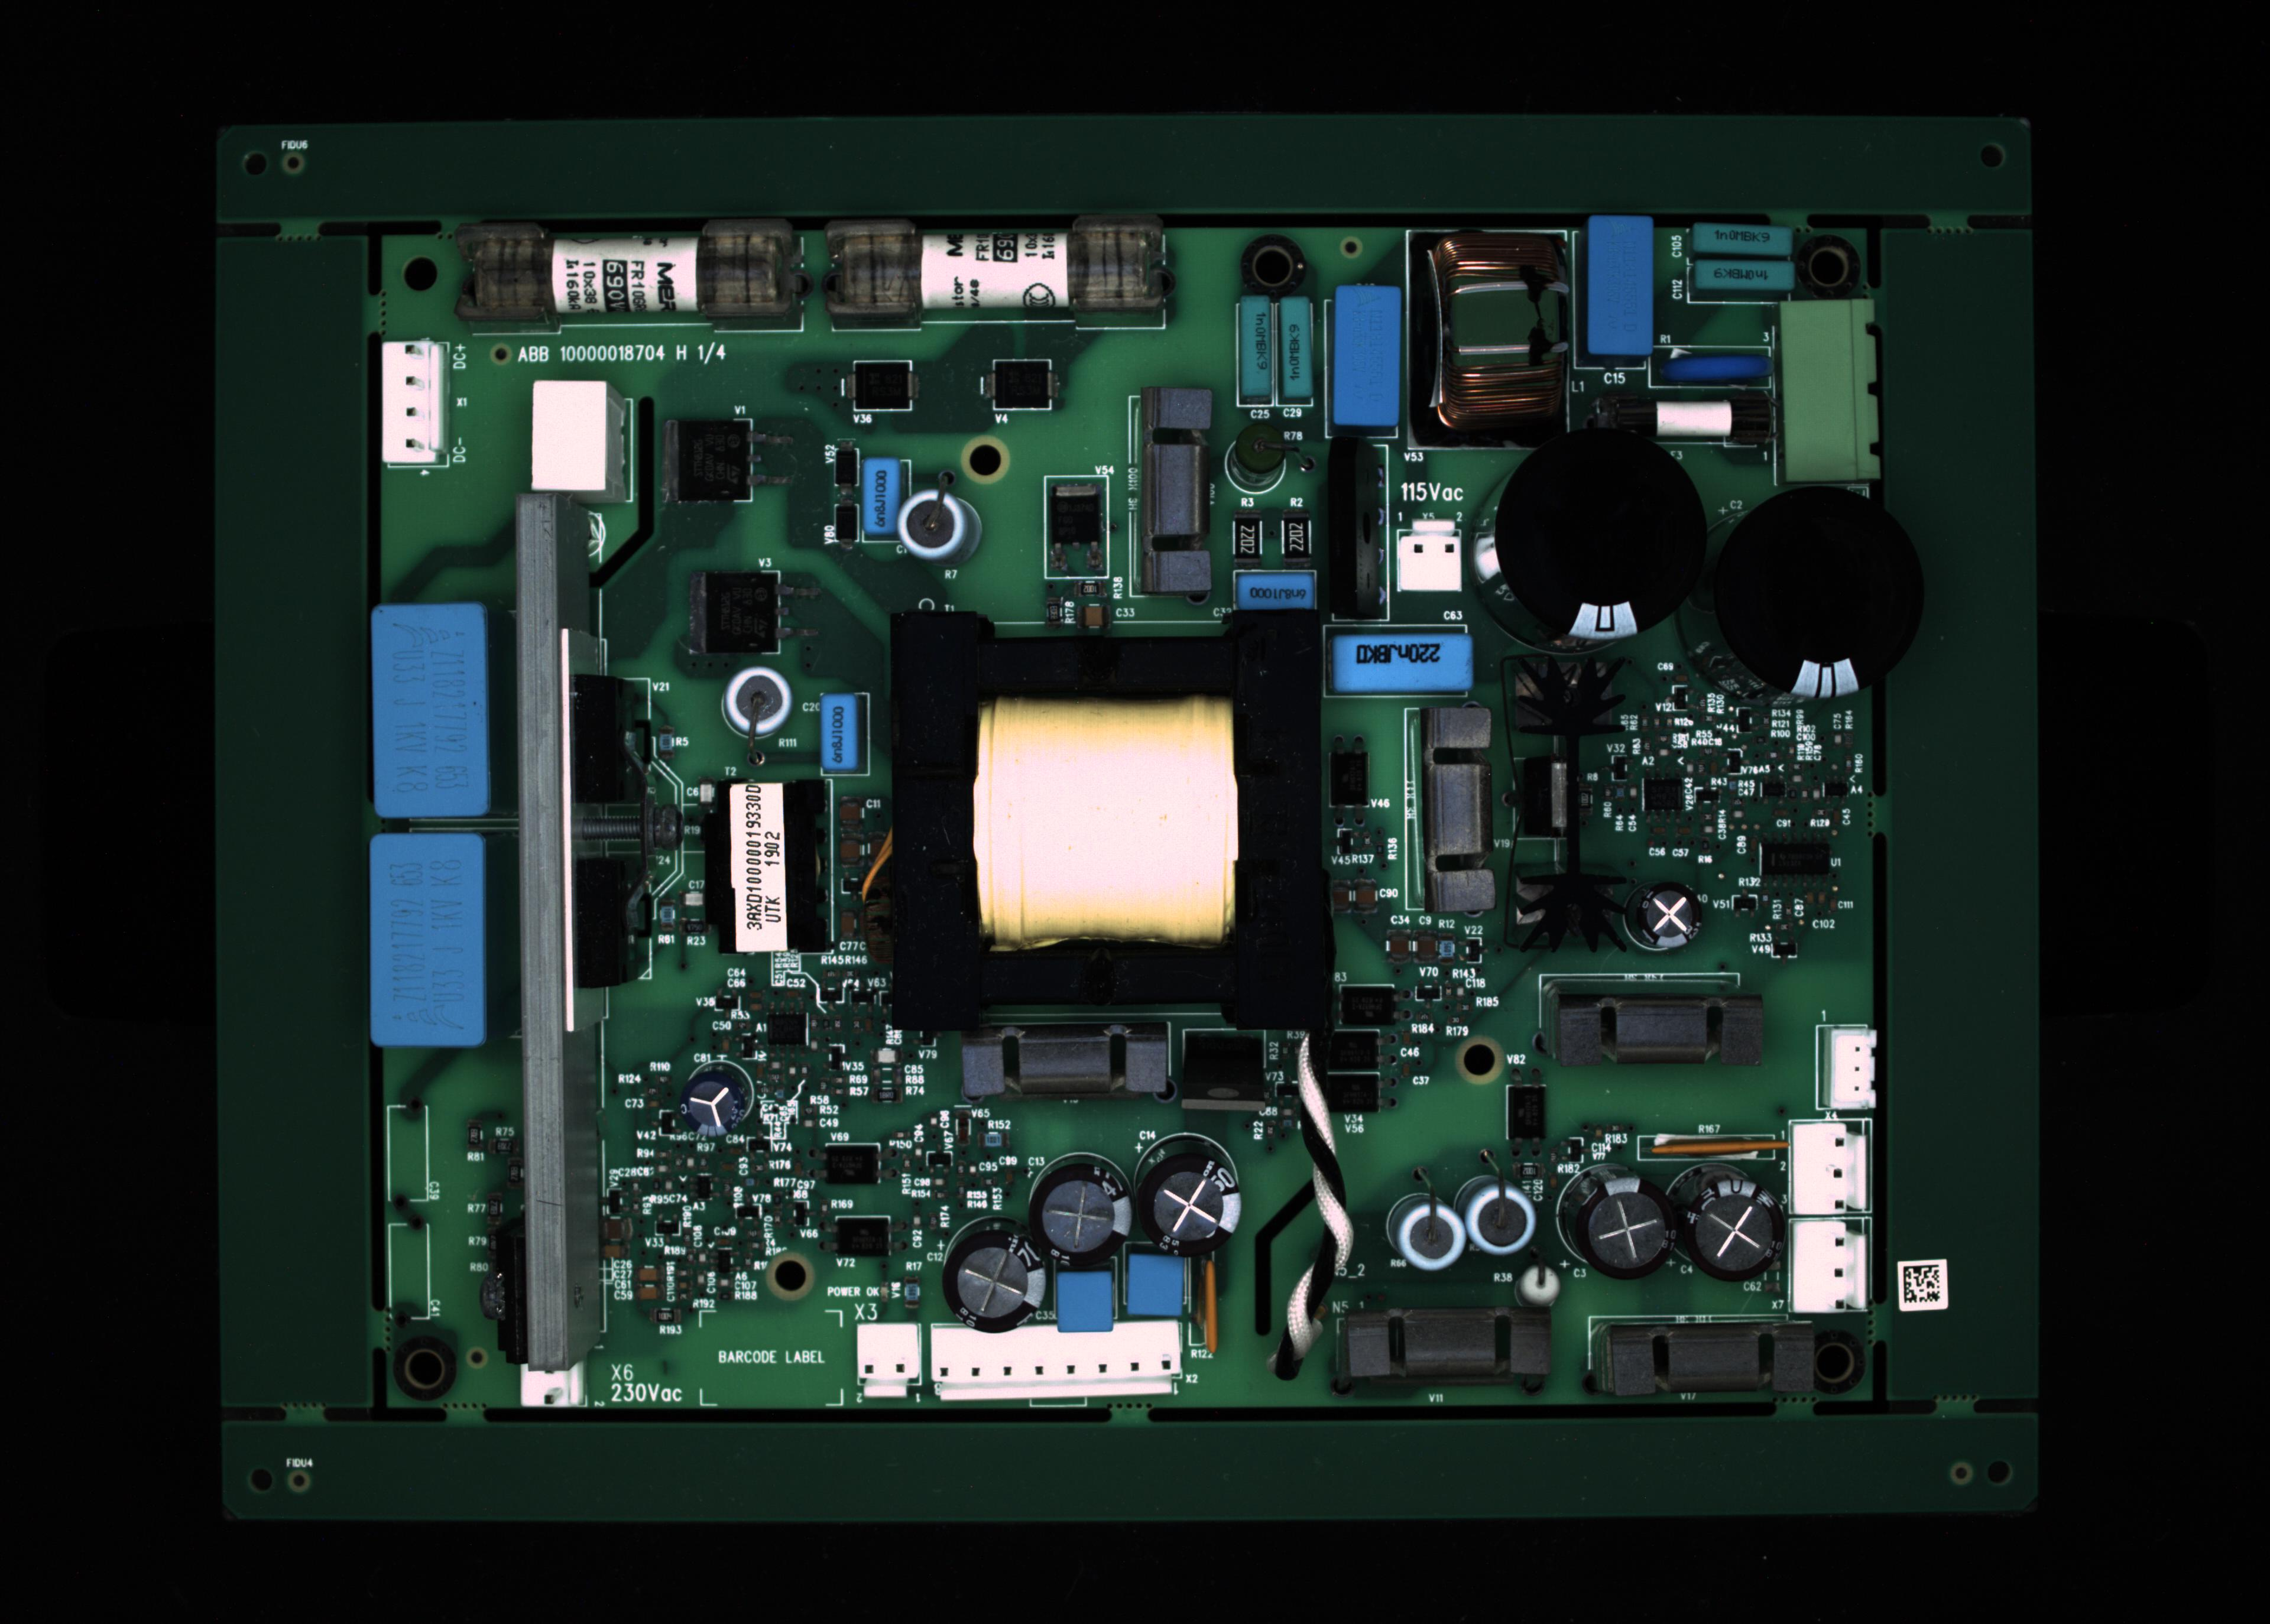10_p: (1648, 346, 1772, 394)
11_q: (1783, 299, 1878, 482)
12_r: (1591, 387, 1776, 455)
13_s: (385, 341, 443, 462)
14_t: (529, 380, 626, 506)
15_e: (863, 455, 902, 533)
16_k: (897, 496, 983, 564)
17_u: (1139, 390, 1210, 594)
18_v: (1234, 571, 1315, 610)
19_w: (1336, 633, 1470, 691)
1_a: (459, 216, 807, 320)
20_f: (1396, 520, 1463, 591)
21_g: (1493, 427, 1709, 640)
22_g: (1711, 482, 1929, 698)
23_h: (376, 610, 491, 817)
24_h: (371, 835, 484, 1044)
25_f: (520, 1362, 582, 1404)
26_f: (858, 1325, 921, 1397)
27_x: (934, 1322, 1180, 1399)
28_i: (1136, 1151, 1240, 1257)
29_i: (1025, 1160, 1131, 1272)
2_a: (819, 216, 1175, 316)
30_i: (941, 1227, 1050, 1334)
31_j: (1057, 1276, 1113, 1336)
32_j: (1131, 1257, 1185, 1318)
33_e: (819, 698, 856, 766)
34_k: (1384, 1193, 1466, 1272)
35_k: (1452, 1174, 1537, 1255)
36_i: (1572, 1176, 1681, 1280)
37_i: (1683, 1174, 1788, 1280)
38_l: (1331, 1306, 1551, 1388)
39_l: (1586, 1315, 1813, 1394)
3_b: (1236, 297, 1271, 397)
40_l: (1539, 977, 1771, 1069)
41_y: (1407, 678, 1505, 919)
42_z: (1830, 1032, 1876, 1107)
43_m: (1793, 1125, 1867, 1216)
44_m: (1792, 1218, 1867, 1313)
45_i: (675, 1062, 751, 1141)
46_n: (1336, 984, 1400, 1028)
47_n: (825, 1144, 883, 1186)
48_n: (839, 1216, 890, 1255)
49_aa: (765, 1009, 809, 1053)
4_b: (1280, 295, 1310, 395)
50_n: (1321, 1030, 1379, 1069)
51_n: (1326, 1072, 1375, 1113)
52_ab: (1329, 750, 1368, 805)
53_ac: (1656, 1130, 1790, 1165)
54_ad: (1201, 1260, 1220, 1359)
55_l: (962, 1018, 1169, 1104)
56_ae: (1176, 1025, 1270, 1113)
57_af: (1509, 647, 1635, 951)
58_i: (1633, 879, 1707, 947)
59_o: (992, 364, 1050, 411)
5_c: (1331, 288, 1396, 425)
60_o: (851, 360, 911, 411)
6_6: (1405, 232, 1572, 452)
7_c: (1590, 218, 1649, 352)
8_d: (1688, 225, 1790, 257)
9_d: (1690, 262, 1793, 288)
